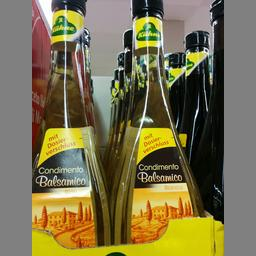vinegar: (114, 0, 207, 243), (31, 0, 119, 248)
